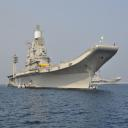Portanaves: (7, 21, 121, 92), (94, 72, 123, 86)
